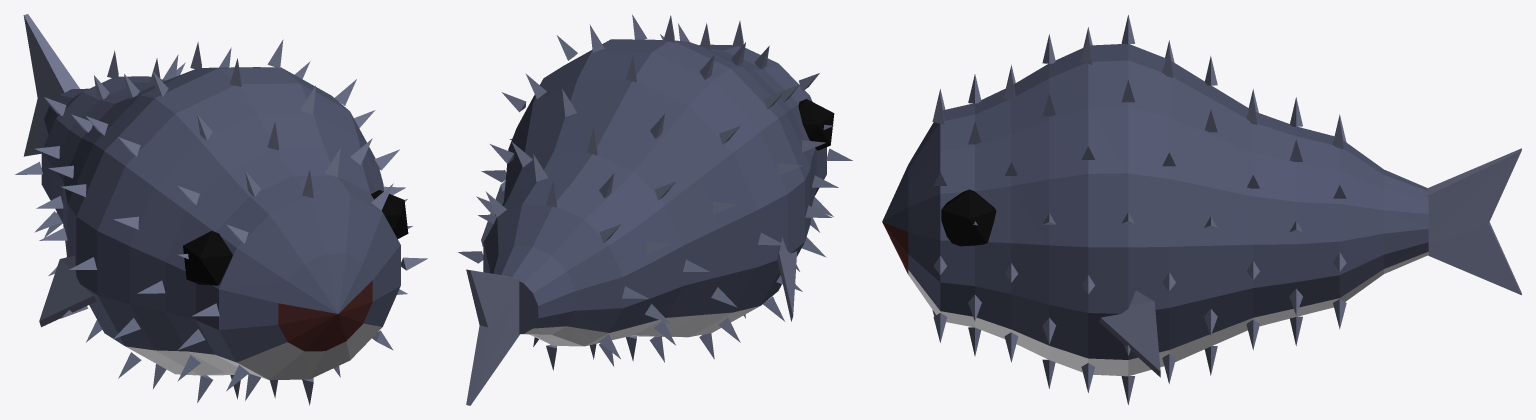
File: FoeBomber.obj
3 renders of one model, left to right at view 1: azimuth 30°, elevation 25°; view 2: azimuth 150°, elevation 25°; view 3: azimuth 270°, elevation 25°, orthographic. The views are drawn at different scales.
Visible parts, largest first — view 1: FoeBomber; view 2: FoeBomber; view 3: FoeBomber.
Part boxes in pixels (box(x1,y1,x2,y2)): FoeBomber: box(15, 14, 427, 405); FoeBomber: box(458, 14, 852, 405); FoeBomber: box(882, 15, 1521, 404).
Size of the model in its own units: 0.6002 by 0.5802 by 0.96.
